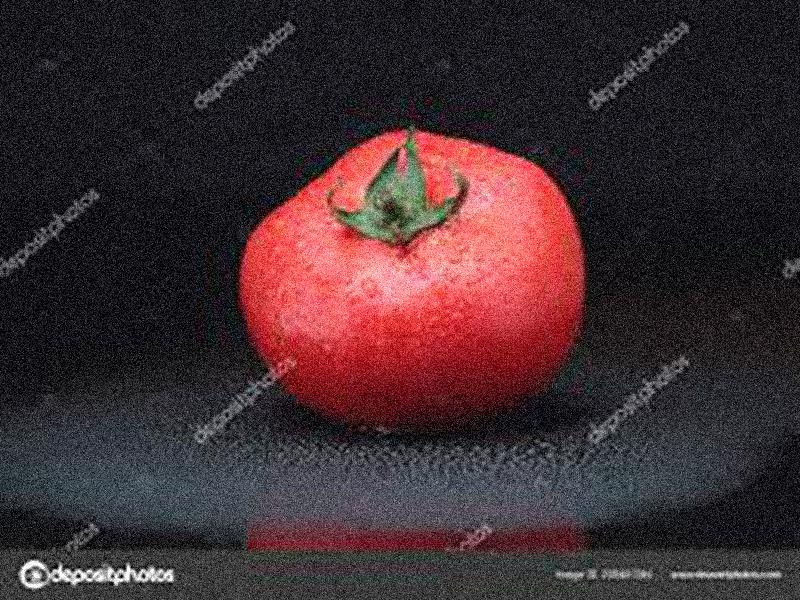Tomato: (238, 126, 587, 428)
